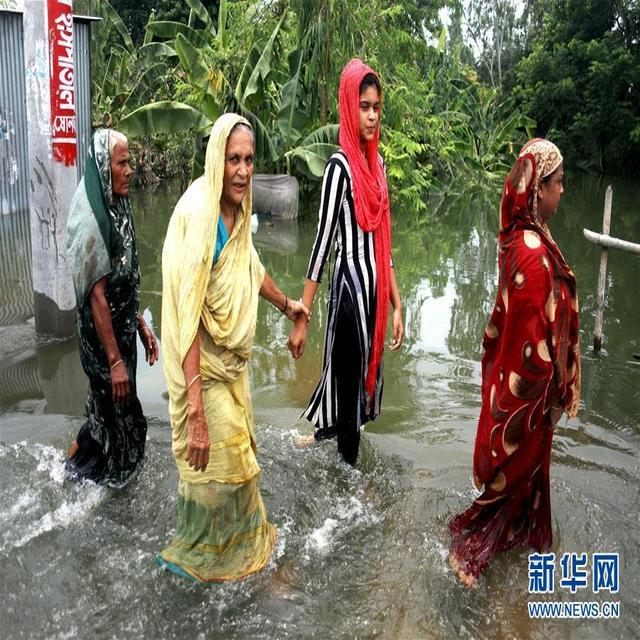Person-RiskLevel2: (155, 114, 295, 584), (284, 62, 423, 477), (469, 140, 584, 594), (61, 118, 166, 493)
